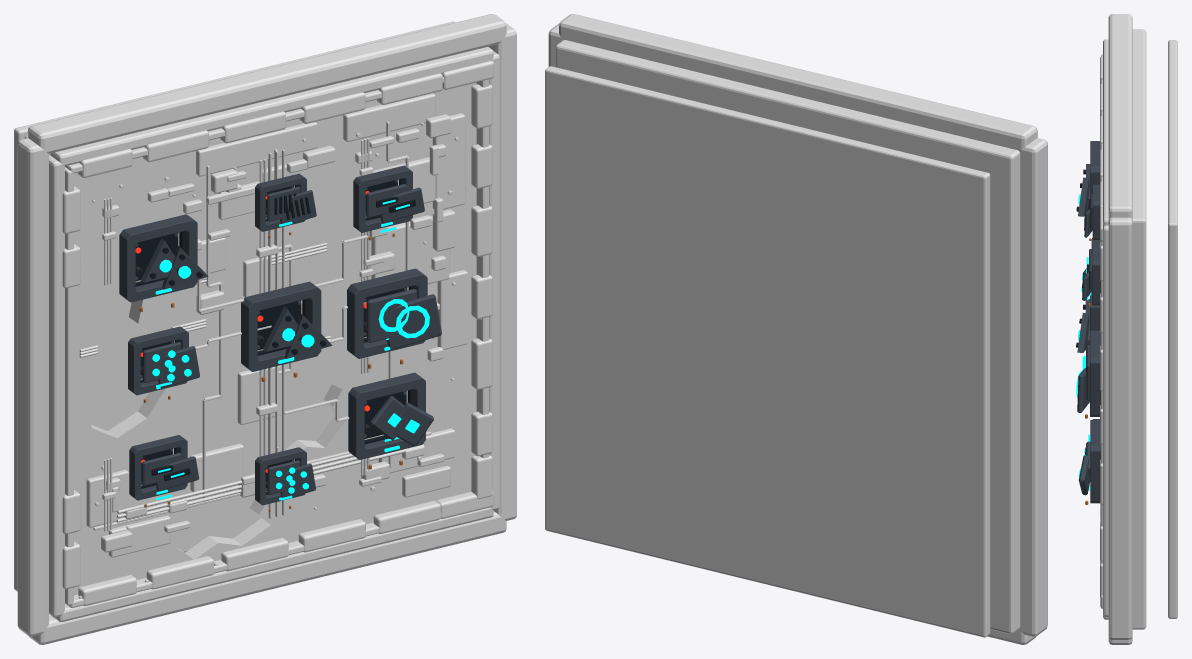
The model's file is QF_MachineCube_Face3_NodeKitV2.fbx.
3 views of the same model, side by side, from view 1: azimuth 30°, elevation 25°; view 2: azimuth 150°, elevation 25°; view 3: azimuth 270°, elevation 25° (orthographic). The views are drawn at different scales.
Parts seen in each view (by area): view 1: C2_DamagedSkin, C2_RearBulkhead, C2_OuterFrame_Left, C2_OuterFrame_Top, C2_OuterFrame_Bottom, C2_OuterFrame_Right, C2_MiddleFrame_Left, C2_MiddleFrame_Top, C2_MiddleFrame_Bottom, C2_MiddleFrame_Right, F3S03_DAMAGED_NODE_04_RELAY_DAMAGED_FrameIntegrated, C2_MacroPanel_00 (+66 smaller); view 2: C2_RearBulkhead, C2_DamagedSkin, C2_OuterFrame_Left, C2_OuterFrame_Top; view 3: C2_OuterFrame_Right, C2_DamagedSkin, C2_RearBulkhead, C2_OuterFrame_Top, C2_MiddleFrame_Right, C2_MiddleFrame_Top, F3S04_DAMAGED_NODE_01_RING_DAMAGED_FrameIntegrated, F3S06_DAMAGED_NODE_05_DIAMOND_DAMAGED_FrameIntegrated, F3S01_DAMAGED_NODE_06_HORIZONTAL_DAMAGED_FrameIntegrated, F3S00_DAMAGED_NODE_04_RELAY_DAMAGED_FrameIntegrated, F3S08_DAMAGED_NODE_03_VENT_DAMAGED_FrameIntegrated, F3S04_DAMAGED_RingPlate.001 (+8 smaller).
Boxes of the visible parts, <box> form: C2_DamagedSkin: <box>24,82,476,595</box>; C2_RearBulkhead: <box>14,21,455,591</box>; C2_OuterFrame_Left: <box>17,138,48,636</box>; C2_OuterFrame_Top: <box>28,14,506,153</box>; C2_OuterFrame_Bottom: <box>29,511,506,644</box>; C2_OuterFrame_Right: <box>488,23,516,520</box>; C2_MiddleFrame_Left: <box>49,155,64,617</box>; C2_MiddleFrame_Top: <box>50,47,493,166</box>; C2_MiddleFrame_Bottom: <box>52,507,493,621</box>; C2_MiddleFrame_Right: <box>489,51,499,510</box>; F3S03_DAMAGED_NODE_04_RELAY_DAMAGED_FrameIntegrated: <box>241,281,321,371</box>; C2_MacroPanel_00: <box>196,122,317,176</box>; C2_RearBulkhead: <box>545,66,990,637</box>; C2_DamagedSkin: <box>555,40,1020,634</box>; C2_OuterFrame_Left: <box>1018,138,1047,636</box>; C2_OuterFrame_Top: <box>559,14,1037,152</box>; C2_OuterFrame_Right: <box>1108,217,1132,639</box>; C2_DamagedSkin: <box>1132,29,1146,629</box>; C2_RearBulkhead: <box>1168,40,1177,618</box>; C2_OuterFrame_Top: <box>1108,14,1132,218</box>; C2_MiddleFrame_Right: <box>1103,225,1108,616</box>; C2_MiddleFrame_Top: <box>1103,39,1108,226</box>; F3S04_DAMAGED_NODE_01_RING_DAMAGED_FrameIntegrated: <box>1090,330,1100,416</box>; F3S06_DAMAGED_NODE_05_DIAMOND_DAMAGED_FrameIntegrated: <box>1090,420,1100,503</box>; F3S01_DAMAGED_NODE_06_HORIZONTAL_DAMAGED_FrameIntegrated: <box>1092,241,1100,305</box>; F3S00_DAMAGED_NODE_04_RELAY_DAMAGED_FrameIntegrated: <box>1090,141,1099,193</box>; F3S08_DAMAGED_NODE_03_VENT_DAMAGED_FrameIntegrated: <box>1092,184,1099,239</box>; F3S04_DAMAGED_RingPlate.001: <box>1077,368,1089,412</box>.
Bounding box in the file's own units: 8.86 × 8.86 × 1.87.
